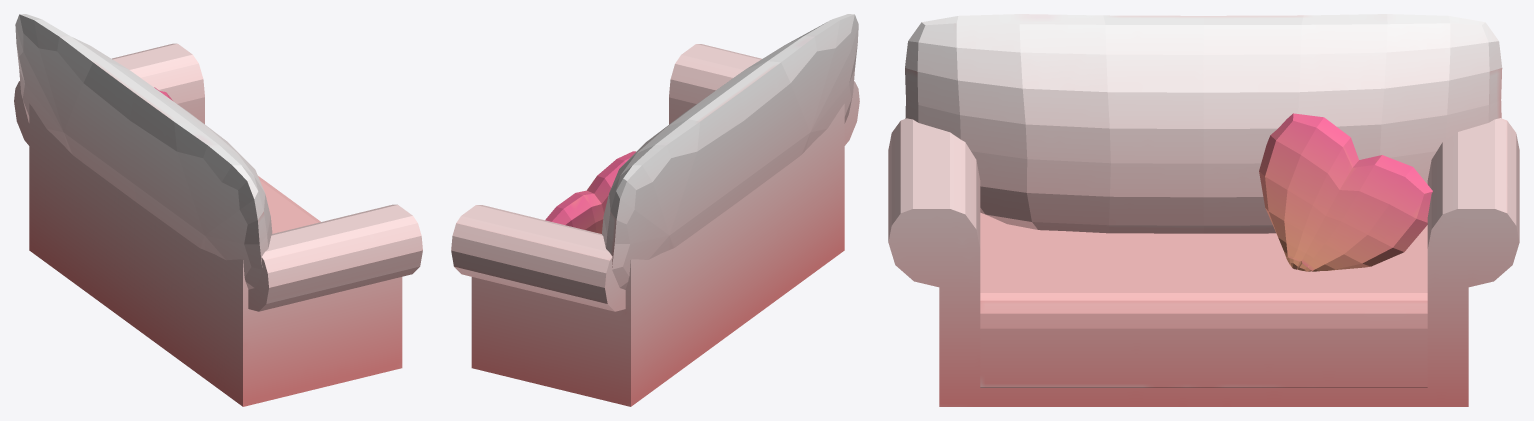
Rendered from sofa.glb.
The picture shows the model from 3 angles, left to right: view 1: azimuth 30°, elevation 25°; view 2: azimuth 150°, elevation 25°; view 3: azimuth 270°, elevation 25°; orthographic projection. The views are drawn at different scales.
Visible parts, largest first — view 1: sofa; view 2: sofa, Cube.001; view 3: sofa, Cube.001.
Boxes of the visible parts, box(x1,y1,x2,y2) form: sofa: box(14, 14, 422, 406); sofa: box(451, 14, 859, 406); Cube.001: box(545, 151, 635, 233); sofa: box(888, 14, 1519, 406); Cube.001: box(1259, 113, 1432, 271).
Size of the model in its own units: 0.7474 by 0.9879 by 1.91.
Materials: 2 (2 with a texture image).
